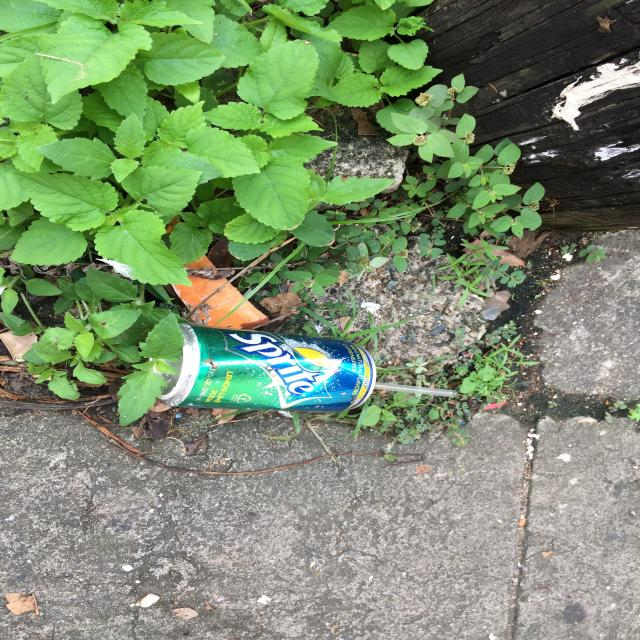litter: (150, 323, 376, 413), (373, 382, 456, 397)
